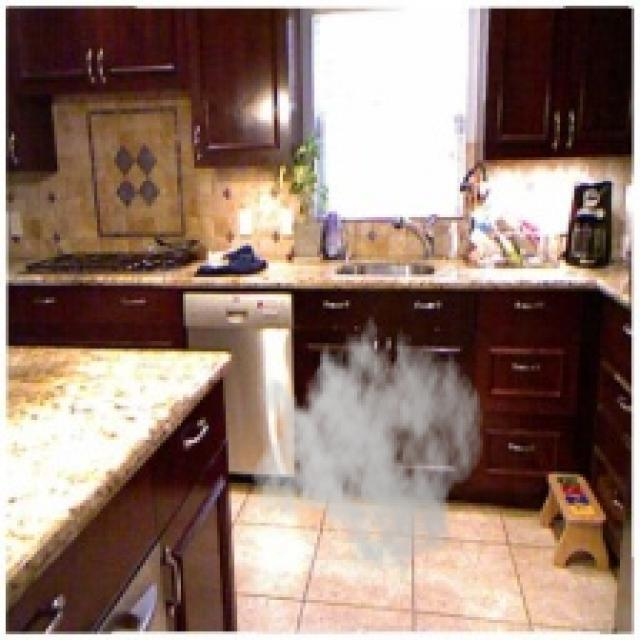Smoke: (251, 300, 486, 580)
